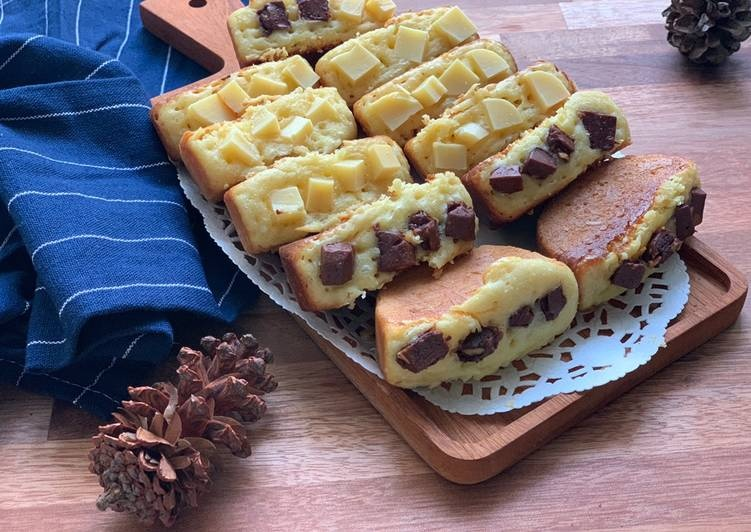pukis: (366, 246, 583, 393), (529, 158, 733, 291)
